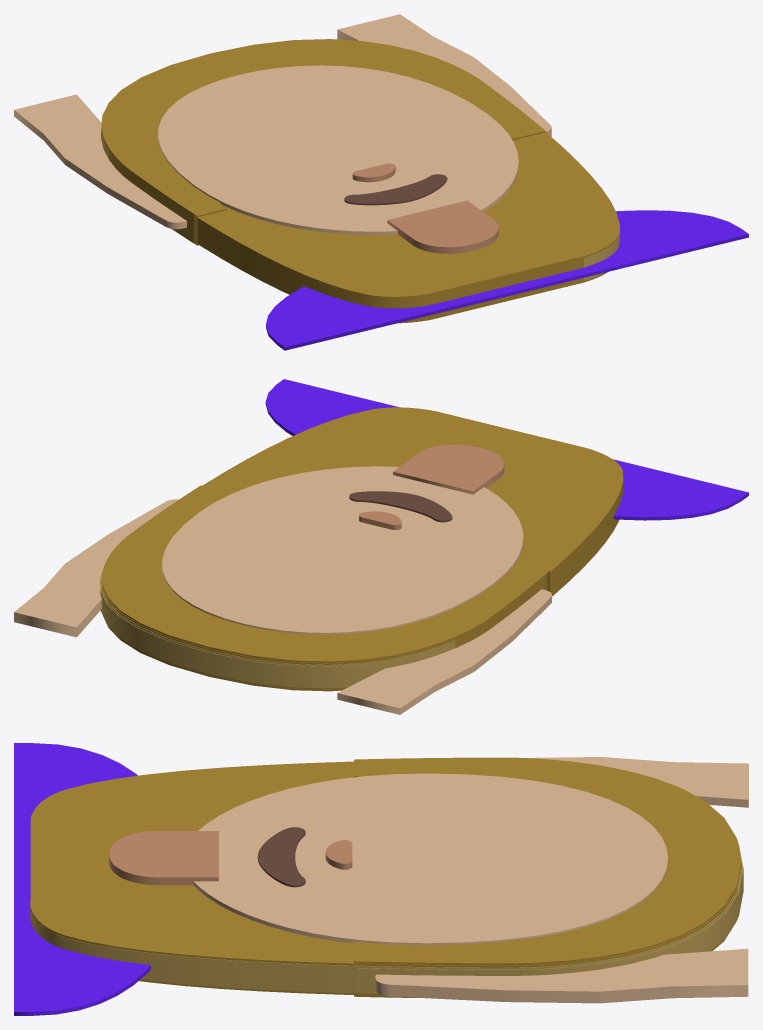
Rendered from emoji_u1f486_1f3fc_200d_2640.glb.
3 views of the same model, one above another, from view 1: azimuth 30°, elevation 25°; view 2: azimuth 150°, elevation 25°; view 3: azimuth 270°, elevation 25° (orthographic). The views are drawn at different scales.
Visible parts, largest first — view 1: emoji_u1f486_1f3fc_200d_2640; view 2: emoji_u1f486_1f3fc_200d_2640; view 3: emoji_u1f486_1f3fc_200d_2640.
Boxes of the visible parts, x1,y1,x2,y2 form: emoji_u1f486_1f3fc_200d_2640: (14, 14, 748, 350); emoji_u1f486_1f3fc_200d_2640: (14, 379, 748, 714); emoji_u1f486_1f3fc_200d_2640: (14, 743, 748, 1015).
Bounding box in the file's own units: 0.0294 × 0.0026 × 0.0339.
